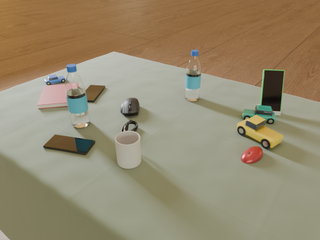book: (37, 84, 68, 109)
bottle: (65, 64, 90, 128), (185, 50, 201, 101)
cup: (115, 131, 141, 169)
mouse: (241, 146, 263, 163), (121, 98, 139, 117)
phone: (260, 69, 284, 111), (43, 135, 95, 154), (85, 85, 105, 102)
toy_car: (237, 115, 283, 149), (242, 105, 276, 124), (44, 75, 66, 85)
